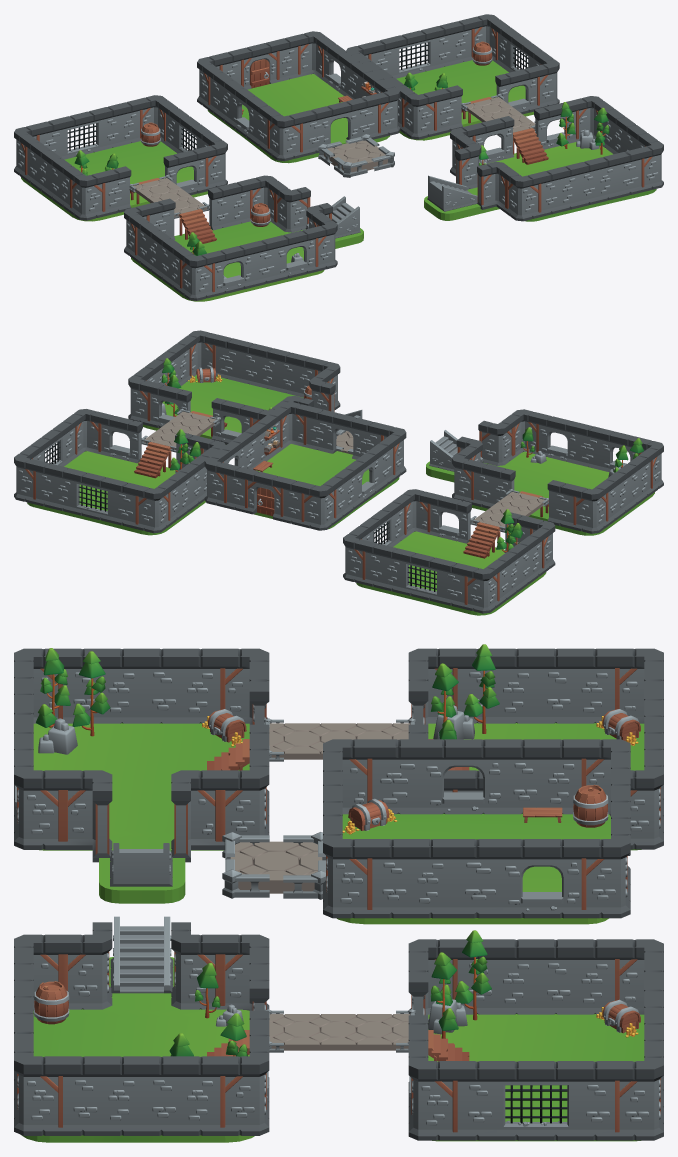
File: Level 3 Polished.fbx
3 renders of one model, top to bottom at view 1: azimuth 30°, elevation 25°; view 2: azimuth 150°, elevation 25°; view 3: azimuth 270°, elevation 25°, orthographic. The views are drawn at different scales.
Parts seen in each view (by area): view 1: Cube.077, Cube.073, Cube.075, Cube.074, Cube.076, wall.048, wall.058, wall.055, wall_corner_scaffold.052, wall_corner_scaffold.059, wall_corner_scaffold.043, wall.015 (+69 smaller); view 2: Cube.074, Cube.073, Cube.075, Cube.076, Cube.077, wall.050, wall.015, wall_corner_scaffold.041, wall_corner_scaffold.058, wall_corner_scaffold.042, wall_corner_scaffold.049, wall.058 (+65 smaller); view 3: Cube.074, Cube.076, Cube.075, Cube.077, wall.057, wall.056, wall_shelves.007, wall.049, wall.046, wall.052, wall.060, wall_archedwindow_open.010 (+72 smaller).
Part boxes in pixels (x1,y1,x2,y2): Cube.077: (207, 74, 389, 163); Cube.073: (21, 141, 207, 221); Cube.075: (396, 60, 533, 140); Cube.074: (131, 221, 363, 301); Cube.076: (424, 142, 656, 221); wall.048: (208, 180, 251, 230); wall.058: (575, 154, 617, 207); wall.055: (537, 164, 579, 216); wall_corner_scaffold.052: (504, 170, 541, 221); wall_corner_scaffold.059: (266, 110, 303, 161); wall_corner_scaffold.043: (68, 170, 105, 220); wall.015: (98, 100, 141, 149); Cube.074: (426, 451, 654, 535); Cube.073: (356, 531, 546, 615); Cube.075: (27, 451, 205, 535); Cube.076: (143, 375, 303, 439); Cube.077: (254, 444, 399, 529); wall.050: (34, 461, 77, 513); wall.015: (364, 541, 406, 593); wall_corner_scaffold.041: (572, 483, 609, 533); wall_corner_scaffold.058: (300, 480, 337, 530); wall_corner_scaffold.042: (464, 563, 500, 613); wall_corner_scaffold.049: (135, 483, 171, 533); wall.058: (239, 341, 281, 390); Cube.074: (33, 723, 249, 903); Cube.076: (21, 957, 254, 1142); Cube.075: (428, 1014, 644, 1141); Cube.077: (337, 813, 610, 924); wall.057: (141, 1056, 220, 1135); wall.056: (63, 1056, 141, 1135); wall_shelves.007: (372, 839, 450, 918); wall.049: (141, 648, 220, 723); wall.046: (536, 648, 614, 723); wall.052: (536, 939, 614, 1014); wall.060: (503, 739, 581, 814); wall_archedwindow_open.010: (503, 839, 581, 918).
Bounding box in the file's own units: 10137 × 1591 × 6615.
20 materials, 20 textured.
